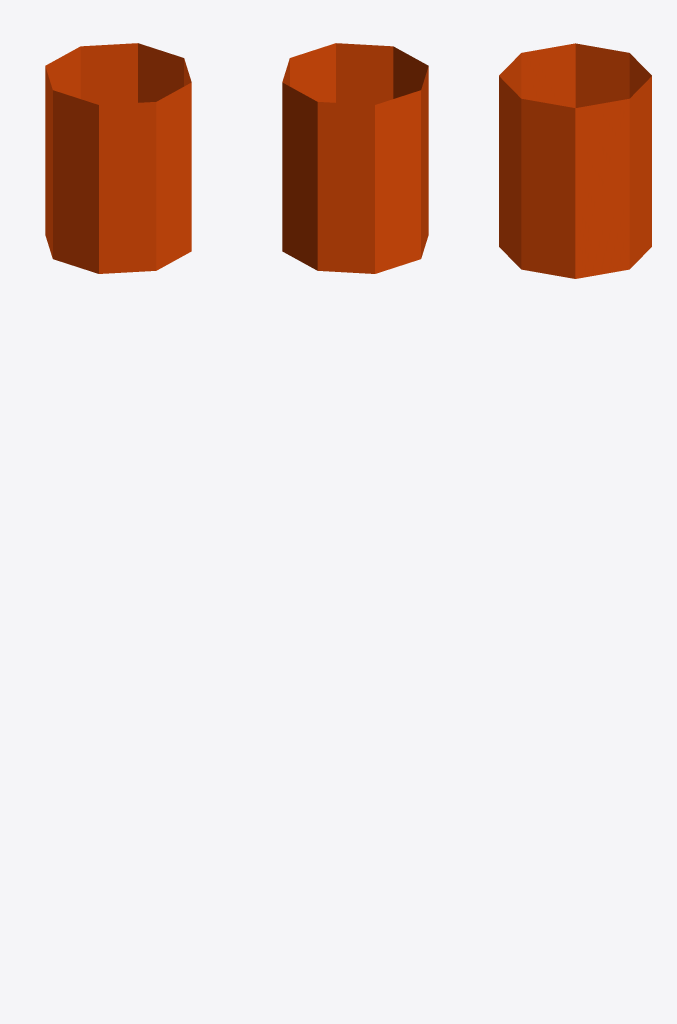
File: Lamp01.fbx
3 views of the same model, side by side, from view 1: azimuth 30°, elevation 25°; view 2: azimuth 150°, elevation 25°; view 3: azimuth 270°, elevation 25° (orthographic).
Parts seen in each view (by area): view 1: Lamp01; view 2: Lamp01; view 3: Lamp01.
Part boxes in pixels (x1,y1,x2,y2): Lamp01: (45,43,191,273); Lamp01: (282,43,428,273); Lamp01: (499,43,651,278).
Size of the model in its own units: 40.75 by 240 by 40.75.
